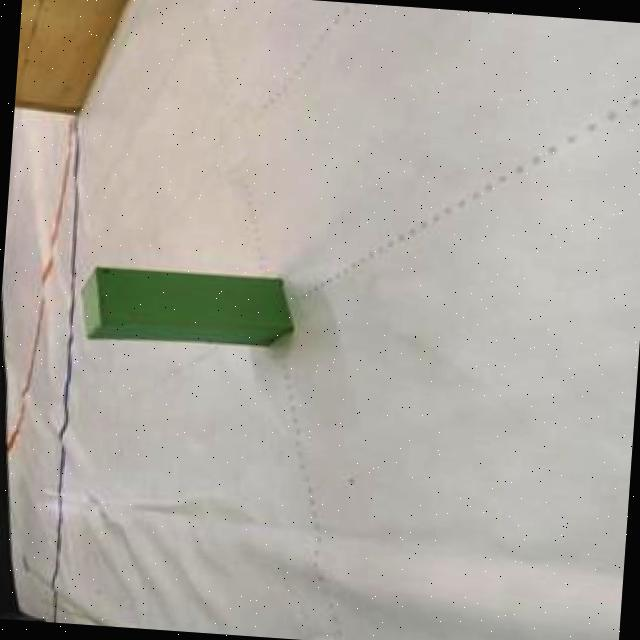greenbox: (75, 258, 301, 356)
